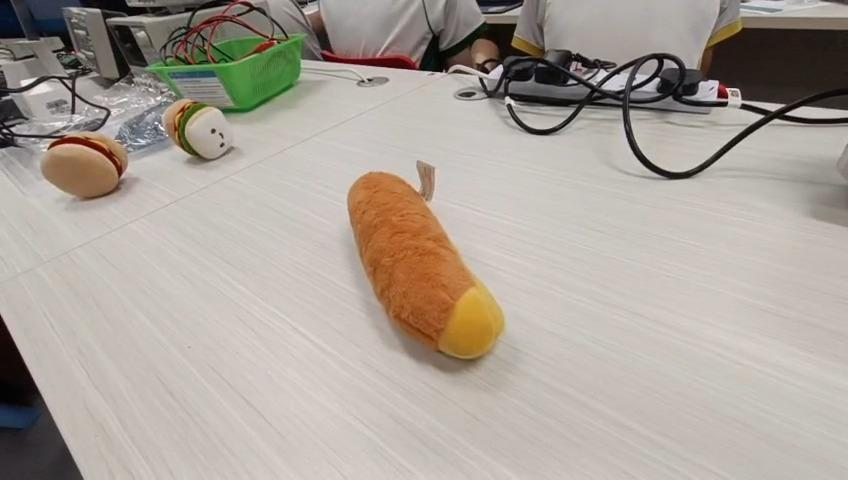hotdog: (346, 169, 505, 360), (39, 130, 128, 198)
